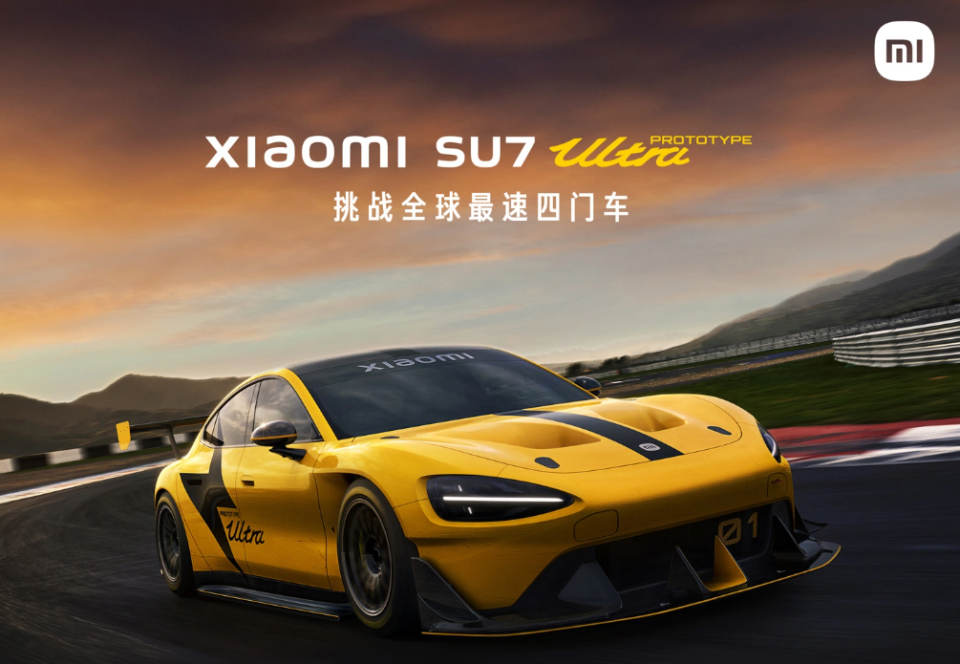su7: (152, 346, 842, 633)
